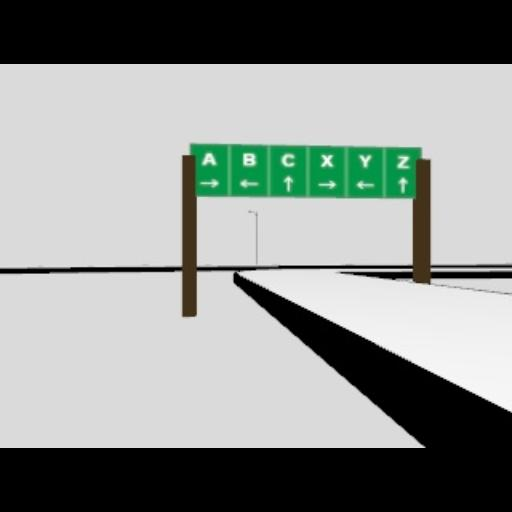A: (200, 152, 216, 164)
B: (242, 152, 256, 166)
C: (280, 152, 296, 166)
Left: (238, 177, 260, 187), (356, 179, 374, 189)
Right: (316, 179, 338, 189), (197, 177, 219, 187)
Straight: (396, 176, 408, 194), (283, 174, 293, 190)
X: (320, 154, 332, 166)
Y: (358, 154, 372, 166)
Z: (395, 154, 409, 168)
